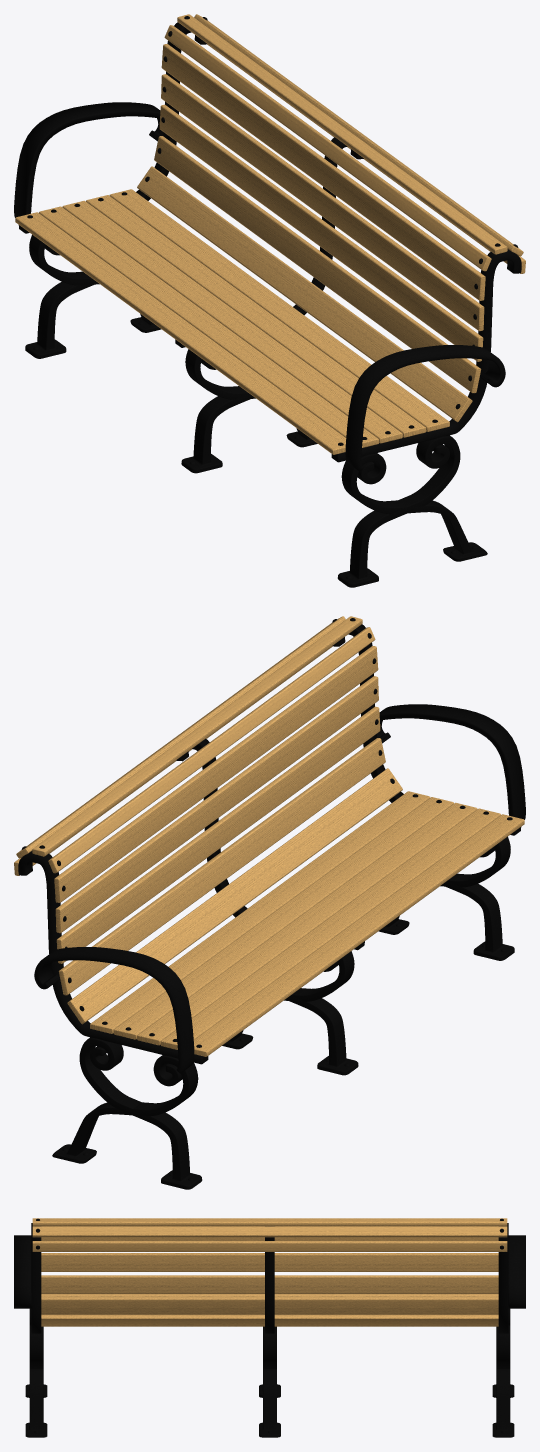
Rendered from bench.fbx.
The picture shows the model from 3 angles, top to bottom: view 1: azimuth 30°, elevation 25°; view 2: azimuth 150°, elevation 25°; view 3: azimuth 270°, elevation 25°; orthographic projection. The views are drawn at different scales.
Parts seen in each view (by area): view 1: clasic park bench 001; view 2: clasic park bench 001; view 3: clasic park bench 001.
Boxes of the visible parts, x1,y1,x2,y2 form: clasic park bench 001: [14, 14, 525, 587]; clasic park bench 001: [14, 616, 525, 1189]; clasic park bench 001: [14, 1218, 525, 1437].
Size of the model in its own units: 59.91 by 88.5 by 183.
Materials: 2 (2 with a texture image).
